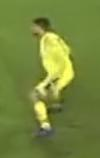goalkeeper: (15, 8, 85, 147)
